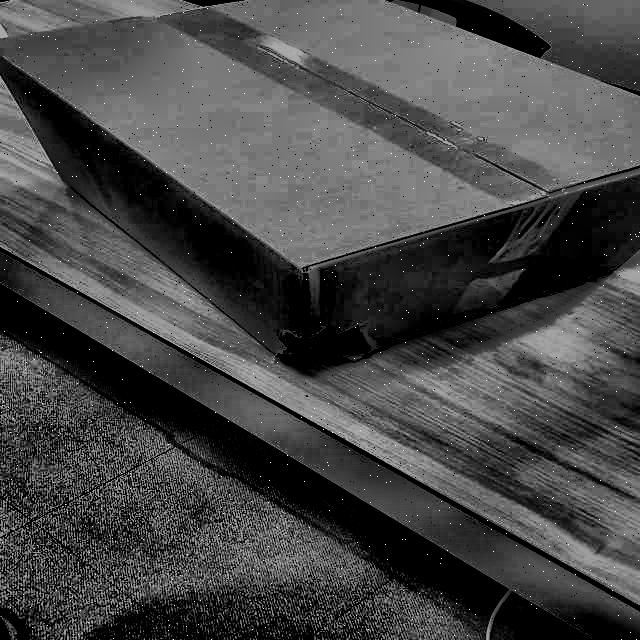box: (0, 0, 639, 385)
hole: (272, 318, 381, 370)
